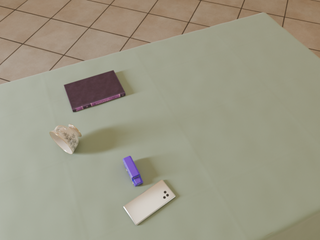book: (64, 70, 125, 112)
cup: (50, 124, 81, 154)
phone: (124, 180, 175, 225)
toy_car: (123, 156, 143, 186)
